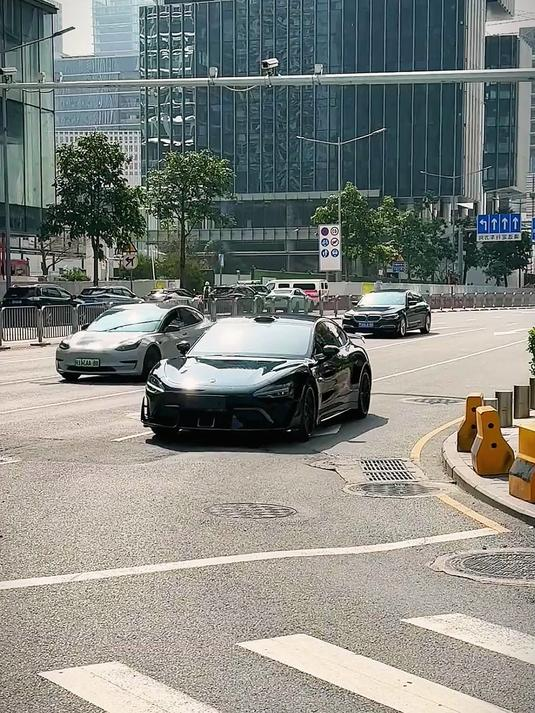other: (61, 296, 219, 385), (342, 288, 432, 338)
su7: (141, 321, 382, 444)
